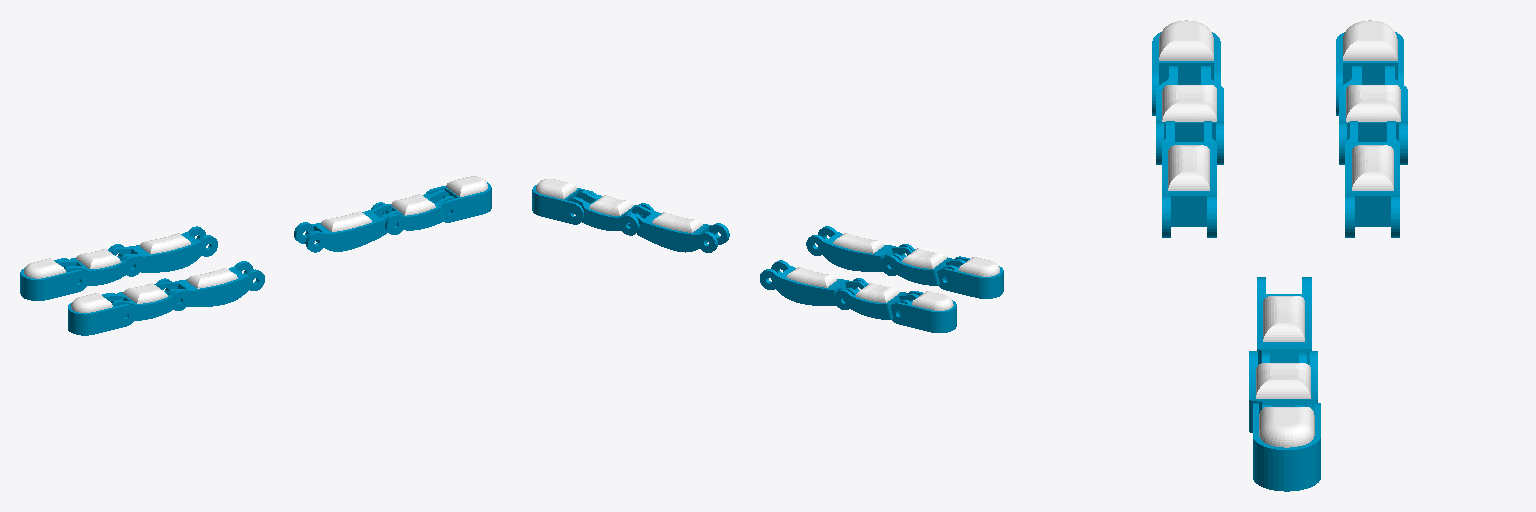
URDF robot description (gripper):
<?xml version="1.0" ?>
<!-- =================================================================================== -->
<!-- |    This document was autogenerated by xacro from gripper6dof.xacro              | -->
<!-- |    EDITING THIS FILE BY HAND IS NOT RECOMMENDED                                 | -->
<!-- =================================================================================== -->
<robot name="gripper">
  <link name="arm1_base"/>
  <link name="arm1_link1">
    <visual>
      <origin rpy="0 1.5707963267948966 0" xyz="-0.005 0.0 0.0275"/>
      <geometry>
        <mesh filename="./meshes/ProximalPhalang.dae"/>
      </geometry>
    </visual>
    <collision>
      <origin rpy="0 0 0" xyz="0 0 0.0275"/>
      <geometry>
        <cylinder length="0.055" radius="0.01"/>
      </geometry>
    </collision>
    <inertial>
      <origin rpy="0 0 0" xyz="0 0 0.0275"/>
      <mass value="0.1"/>
      <inertia ixx="2.770833333333333e-05" ixy="0.0" ixz="0.0" iyy="2.770833333333333e-05" iyz="0.0" izz="0.00015125000000000002"/>
    </inertial>
  </link>
  <link name="arm1_link2">
    <visual>
      <origin rpy="0 1.5707963267948966 0" xyz="0.004 0 0.02"/>
      <geometry>
        <mesh filename="./meshes/MiddlePhalang.dae"/>
      </geometry>
    </visual>
    <collision>
      <origin rpy="0 0 0" xyz="0 0 0.02"/>
      <geometry>
        <cylinder length="0.04" radius="0.01"/>
      </geometry>
    </collision>
    <inertial>
      <origin rpy="0 0 0" xyz="0 0 0.02"/>
      <mass value="0.1"/>
      <inertia ixx="1.5833333333333333e-05" ixy="0.0" ixz="0.0" iyy="1.5833333333333333e-05" iyz="0.0" izz="8e-05"/>
    </inertial>
  </link>
  <link name="arm1_link3">
    <visual>
      <origin rpy="0 1.5707963267948966 -1.5707963267948966" xyz="-0.0026 0.0082 0.01125"/>
      <geometry>
        <mesh filename="./meshes/DistalPhalang.dae"/>
      </geometry>
    </visual>
    <collision>
      <origin rpy="0 0 0" xyz="0 0 0.0225"/>
      <geometry>
        <cylinder length="0.045" radius="0.01"/>
      </geometry>
    </collision>
    <inertial>
      <origin rpy="0 0 0" xyz="0 0 0.0225"/>
      <mass value="0.1"/>
      <inertia ixx="1.9374999999999997e-05" ixy="0.0" ixz="0.0" iyy="1.9374999999999997e-05" iyz="0.0" izz="0.00010125"/>
    </inertial>
  </link>
  <joint name="arm1_joint1" type="revolute">
    <parent link="arm1_base"/>
    <child link="arm1_link1"/>
    <limit effort="30" lower="0" upper="3.141592653589793" velocity="1.0"/>
    <origin rpy="-1.5707963267948966 0 1.5707963267948966" xyz="-0.0235 -0.0325 0.12"/>
    <axis xyz="1 0 0"/>
  </joint>
  <joint name="arm1_joint2" type="revolute">
    <parent link="arm1_link1"/>
    <child link="arm1_link2"/>
    <limit effort="30" lower="0" upper="3.141592653589793" velocity="1.0"/>
    <origin rpy="0 0 0" xyz="0 0 0.055"/>
    <axis xyz="1 0 0"/>
  </joint>
  <joint name="arm1_joint3" type="revolute">
    <parent link="arm1_link2"/>
    <child link="arm1_link3"/>
    <limit effort="30" lower="0" upper="3.141592653589793" velocity="1.0"/>
    <origin rpy="0 0 0" xyz="0 0 0.04"/>
    <axis xyz="1 0 0"/>
  </joint>
  <link name="arm2_base"/>
  <link name="arm2_link1">
    <visual>
      <origin rpy="0 1.5707963267948966 0" xyz="-0.005 0.0 0.0275"/>
      <geometry>
        <mesh filename="./meshes/ProximalPhalang.dae"/>
      </geometry>
    </visual>
    <collision>
      <origin rpy="0 0 0" xyz="0 0 0.0275"/>
      <geometry>
        <cylinder length="0.055" radius="0.01"/>
      </geometry>
    </collision>
    <inertial>
      <origin rpy="0 0 0" xyz="0 0 0.0275"/>
      <mass value="0.1"/>
      <inertia ixx="2.770833333333333e-05" ixy="0.0" ixz="0.0" iyy="2.770833333333333e-05" iyz="0.0" izz="0.00015125000000000002"/>
    </inertial>
  </link>
  <link name="arm2_link2">
    <visual>
      <origin rpy="0 1.5707963267948966 0" xyz="0.004 0 0.02"/>
      <geometry>
        <mesh filename="./meshes/MiddlePhalang.dae"/>
      </geometry>
    </visual>
    <collision>
      <origin rpy="0 0 0" xyz="0 0 0.02"/>
      <geometry>
        <cylinder length="0.04" radius="0.01"/>
      </geometry>
    </collision>
    <inertial>
      <origin rpy="0 0 0" xyz="0 0 0.02"/>
      <mass value="0.1"/>
      <inertia ixx="1.5833333333333333e-05" ixy="0.0" ixz="0.0" iyy="1.5833333333333333e-05" iyz="0.0" izz="8e-05"/>
    </inertial>
  </link>
  <link name="arm2_link3">
    <visual>
      <origin rpy="0 1.5707963267948966 -1.5707963267948966" xyz="-0.0026 0.0082 0.01125"/>
      <geometry>
        <mesh filename="./meshes/DistalPhalang.dae"/>
      </geometry>
    </visual>
    <collision>
      <origin rpy="0 0 0" xyz="0 0 0.0225"/>
      <geometry>
        <cylinder length="0.045" radius="0.01"/>
      </geometry>
    </collision>
    <inertial>
      <origin rpy="0 0 0" xyz="0 0 0.0225"/>
      <mass value="0.1"/>
      <inertia ixx="1.9374999999999997e-05" ixy="0.0" ixz="0.0" iyy="1.9374999999999997e-05" iyz="0.0" izz="0.00010125"/>
    </inertial>
  </link>
  <joint name="arm2_joint1" type="revolute">
    <parent link="arm2_base"/>
    <child link="arm2_link1"/>
    <limit effort="30" lower="0" upper="3.141592653589793" velocity="1.0"/>
    <origin rpy="-1.5707963267948966 0 -1.5707963267948966" xyz="0.0235  0.0              0.12"/>
    <axis xyz="1 0 0"/>
  </joint>
  <joint name="arm2_joint2" type="revolute">
    <parent link="arm2_link1"/>
    <child link="arm2_link2"/>
    <limit effort="30" lower="0" upper="3.141592653589793" velocity="1.0"/>
    <origin rpy="0 0 0" xyz="0 0 0.055"/>
    <axis xyz="1 0 0"/>
  </joint>
  <joint name="arm2_joint3" type="revolute">
    <parent link="arm2_link2"/>
    <child link="arm2_link3"/>
    <limit effort="30" lower="0" upper="3.141592653589793" velocity="1.0"/>
    <origin rpy="0 0 0" xyz="0 0 0.04"/>
    <axis xyz="1 0 0"/>
  </joint>
  <link name="arm3_base"/>
  <link name="arm3_link1">
    <visual>
      <origin rpy="0 1.5707963267948966 0" xyz="-0.005 0.0 0.0275"/>
      <geometry>
        <mesh filename="./meshes/ProximalPhalang.dae"/>
      </geometry>
    </visual>
    <collision>
      <origin rpy="0 0 0" xyz="0 0 0.0275"/>
      <geometry>
        <cylinder length="0.055" radius="0.01"/>
      </geometry>
    </collision>
    <inertial>
      <origin rpy="0 0 0" xyz="0 0 0.0275"/>
      <mass value="0.1"/>
      <inertia ixx="2.770833333333333e-05" ixy="0.0" ixz="0.0" iyy="2.770833333333333e-05" iyz="0.0" izz="0.00015125000000000002"/>
    </inertial>
  </link>
  <link name="arm3_link2">
    <visual>
      <origin rpy="0 1.5707963267948966 0" xyz="0.004 0 0.02"/>
      <geometry>
        <mesh filename="./meshes/MiddlePhalang.dae"/>
      </geometry>
    </visual>
    <collision>
      <origin rpy="0 0 0" xyz="0 0 0.02"/>
      <geometry>
        <cylinder length="0.04" radius="0.01"/>
      </geometry>
    </collision>
    <inertial>
      <origin rpy="0 0 0" xyz="0 0 0.02"/>
      <mass value="0.1"/>
      <inertia ixx="1.5833333333333333e-05" ixy="0.0" ixz="0.0" iyy="1.5833333333333333e-05" iyz="0.0" izz="8e-05"/>
    </inertial>
  </link>
  <link name="arm3_link3">
    <visual>
      <origin rpy="0 1.5707963267948966 -1.5707963267948966" xyz="-0.0026 0.0082 0.01125"/>
      <geometry>
        <mesh filename="./meshes/DistalPhalang.dae"/>
      </geometry>
    </visual>
    <collision>
      <origin rpy="0 0 0" xyz="0 0 0.0225"/>
      <geometry>
        <cylinder length="0.045" radius="0.01"/>
      </geometry>
    </collision>
    <inertial>
      <origin rpy="0 0 0" xyz="0 0 0.0225"/>
      <mass value="0.1"/>
      <inertia ixx="1.9374999999999997e-05" ixy="0.0" ixz="0.0" iyy="1.9374999999999997e-05" iyz="0.0" izz="0.00010125"/>
    </inertial>
  </link>
  <joint name="arm3_joint1" type="revolute">
    <parent link="arm3_base"/>
    <child link="arm3_link1"/>
    <limit effort="30" lower="0" upper="3.141592653589793" velocity="1.0"/>
    <origin rpy="-1.5707963267948966 0 1.5707963267948966" xyz="-0.0235 0.024000000000000004 0.12"/>
    <axis xyz="1 0 0"/>
  </joint>
  <joint name="arm3_joint2" type="revolute">
    <parent link="arm3_link1"/>
    <child link="arm3_link2"/>
    <limit effort="30" lower="0" upper="3.141592653589793" velocity="1.0"/>
    <origin rpy="0 0 0" xyz="0 0 0.055"/>
    <axis xyz="1 0 0"/>
  </joint>
  <joint name="arm3_joint3" type="revolute">
    <parent link="arm3_link2"/>
    <child link="arm3_link3"/>
    <limit effort="30" lower="0" upper="3.141592653589793" velocity="1.0"/>
    <origin rpy="0 0 0" xyz="0 0 0.04"/>
    <axis xyz="1 0 0"/>
  </joint>
  <link name="drone">
    <visual>
      <origin rpy="0 0 0" xyz="0 0 -0.08"/>
      <geometry>
        <mesh filename="./meshes/FeelyDroneBase.dae"/>
      </geometry>
    </visual>
    <collision>
      <origin rpy="0 0 0" xyz="0 0 0.0"/>
      <geometry>
        <box size="0.075 0.1 0.08"/>
      </geometry>
    </collision>
    <collision>
      <origin rpy="0 0 0" xyz="0 0 -0.06"/>
      <geometry>
        <box size="0.25 0.225 0.04"/>
      </geometry>
    </collision>
    <inertial>
      <origin rpy="0 0 0" xyz="0 0 0"/>
      <mass value="1.0"/>
      <inertia ixx="0.004752083333333334" ixy="0.0" ixz="0.0" iyy="0.005741666666666667" iyz="0.0" izz="0.009427083333333332"/>
    </inertial>
  </link>
  <!--<joint name="droneFixture" type="fixed">
        <parent link="drone"/>
        <child link="base"/>
    </joint>-->
  <joint name="arm1_fix" type="fixed">
    <origin rpy="0 0 0" xyz="0 0 -0.08"/>
    <parent link="drone"/>
    <child link="arm1_base"/>
  </joint>
  <joint name="arm2_fix" type="fixed">
    <origin rpy="0 0 0" xyz="0 0 -0.08"/>
    <parent link="drone"/>
    <child link="arm2_base"/>
  </joint>
  <joint name="arm3_fix" type="fixed">
    <origin rpy="0 0 0" xyz="0 0 -0.08"/>
    <parent link="drone"/>
    <child link="arm3_base"/>
  </joint>
</robot>

--- Facts derived from the render (not from the file) ---
3 views of the same robot in one strip: view 1: azimuth 30°, elevation 25°; view 2: azimuth 150°, elevation 25°; view 3: azimuth 270°, elevation 25° (orthographic).
Model gripper with 13 links and 12 joints (9 revolute, 3 fixed), rooted at drone, posed all joints at 0.
Links seen in each view (by area): view 1: arm2_link1, arm3_link1, arm1_link1, arm3_link3, arm1_link3, arm2_link2, arm2_link3, arm1_link2, arm3_link2; view 2: arm2_link1, arm1_link1, arm3_link1, arm1_link3, arm3_link3, arm2_link2, arm1_link2, arm2_link3, arm3_link2; view 3: arm2_link3, arm1_link1, arm3_link1, arm3_link2, arm1_link2, arm2_link1, arm1_link3, arm3_link3, arm2_link2.
Link boxes in pixels (box(x1,y1,x2,y2)): arm2_link1: box(294, 204, 400, 252); arm3_link1: box(111, 226, 217, 272); arm1_link1: box(158, 261, 264, 306); arm3_link3: box(20, 258, 88, 300); arm1_link3: box(68, 293, 135, 335); arm2_link2: box(371, 190, 455, 234); arm2_link3: box(426, 176, 491, 222); arm1_link2: box(104, 278, 189, 320); arm3_link2: box(57, 244, 142, 285); arm2_link1: box(623, 205, 729, 252); arm1_link1: box(806, 226, 912, 271); arm3_link1: box(760, 260, 865, 305); arm1_link3: box(937, 256, 1003, 298); arm3_link3: box(890, 291, 956, 332); arm2_link2: box(568, 191, 653, 235); arm1_link2: box(881, 244, 965, 285); arm2_link3: box(532, 179, 596, 224); arm3_link2: box(834, 278, 918, 319); arm2_link3: box(1253, 403, 1320, 491); arm1_link1: box(1162, 121, 1216, 237); arm3_link1: box(1345, 121, 1399, 237); arm3_link2: box(1339, 66, 1407, 164); arm1_link2: box(1156, 66, 1223, 164); arm2_link1: box(1257, 277, 1311, 364); arm1_link3: box(1152, 20, 1220, 115); arm3_link3: box(1336, 20, 1403, 115); arm2_link2: box(1249, 351, 1317, 432).
Bounding box of the posed robot: 0.308 × 0.0785 × 0.0217 m (x, y, z).
Meshes: 4 distinct files referenced, 9 mesh visuals loaded (3 Collada DAE); not drawn: 1 (reference not matched to a file when rendering).
